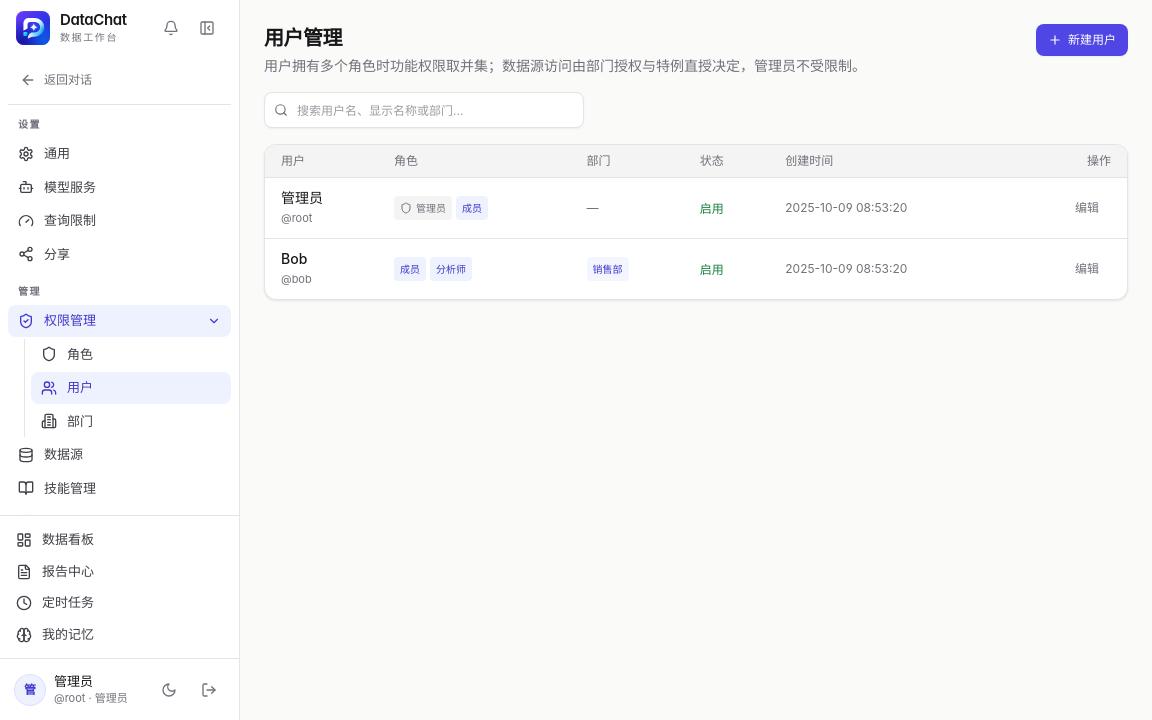
it: UsersPage › keeps department roots collapsed until expanded
The width and height of the screenshot is (1152, 720).
Expected: the text "Bob" is shown, left=281, top=250, right=307, bottom=267
Click the button "新建用户" at (1082, 40), box left=1036, top=24, right=1128, bottom=56
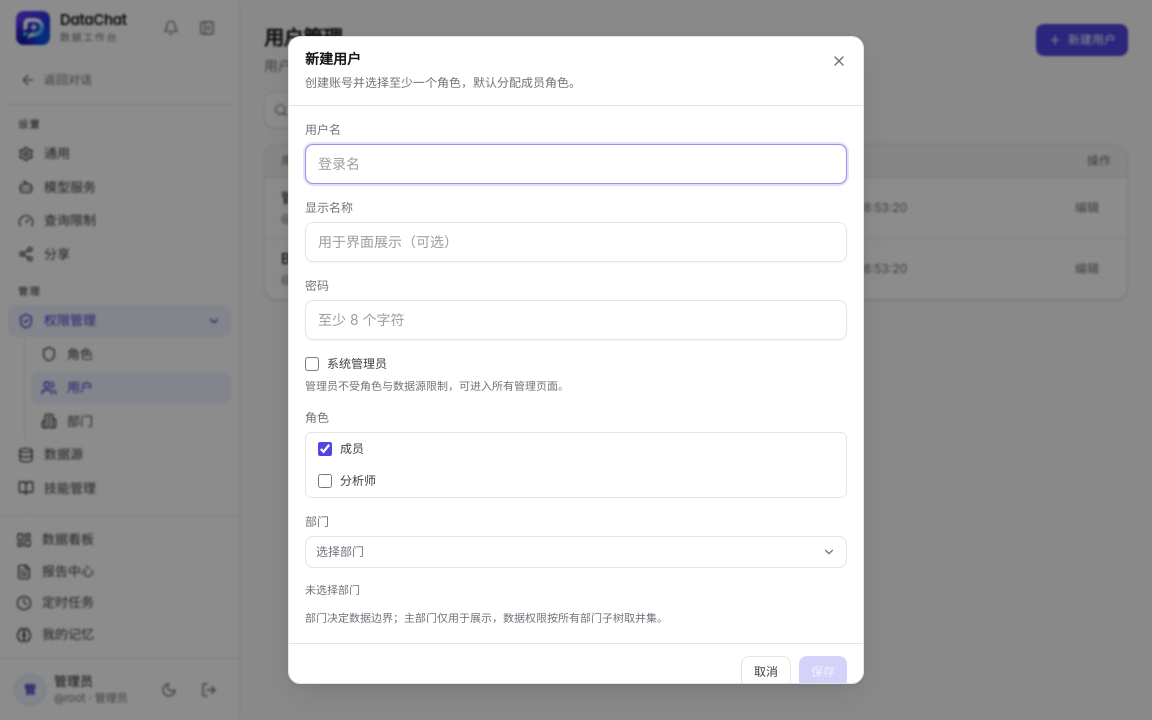
Click the dropdown labelled "选择部门" at (340, 552), box left=305, top=536, right=847, bottom=568
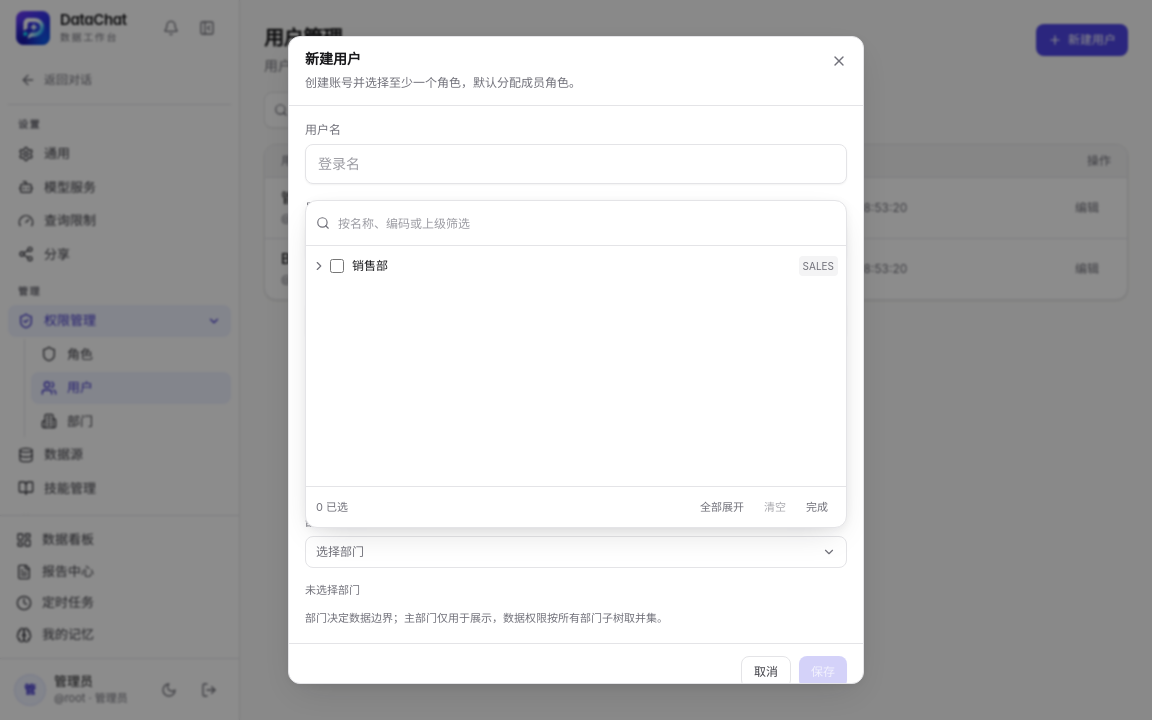
Result: the checkbox named "选择 销售部" is shown at left=330, top=259, right=344, bottom=273
Click the button named "展开 销售部" at (319, 266), box left=310, top=257, right=328, bottom=275
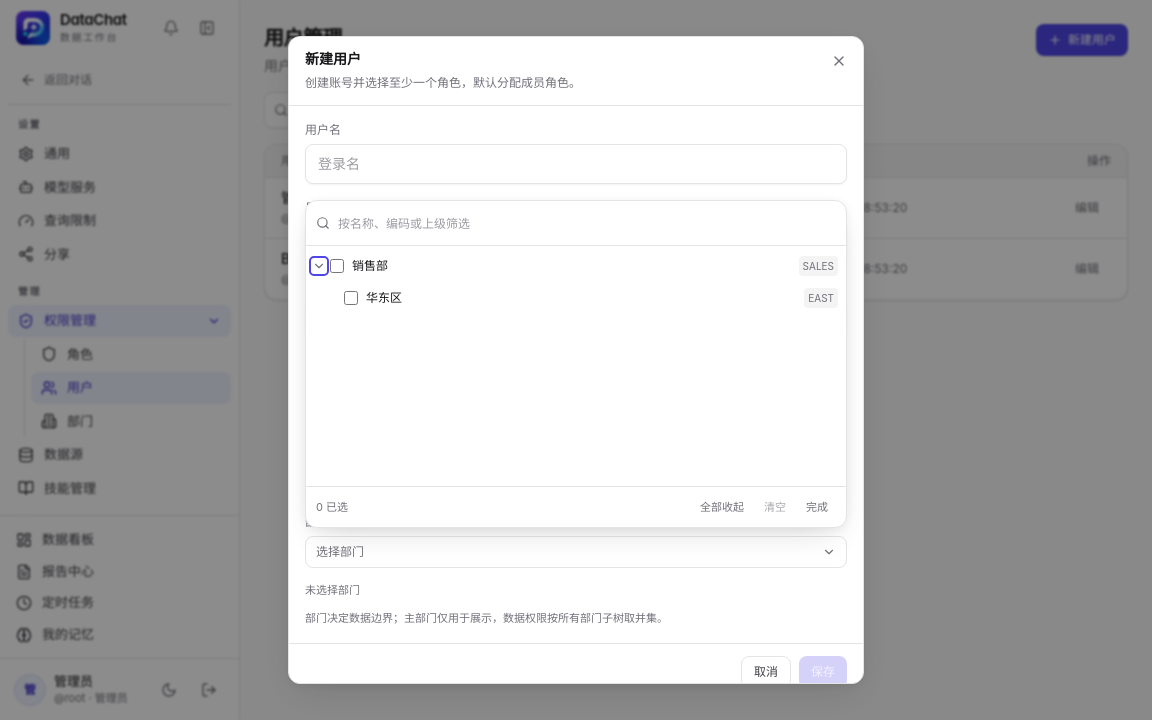
Result: the checkbox named "选择 销售部 / 华东区" is shown at left=344, top=291, right=358, bottom=305
